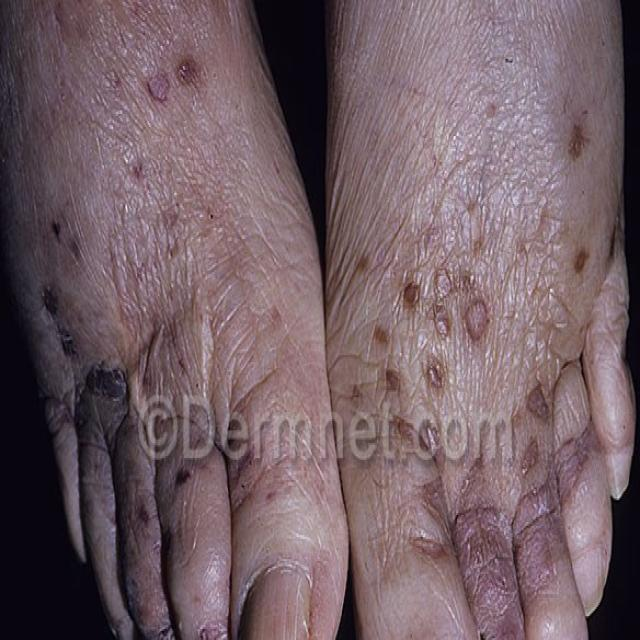Vascular Tumors: (451, 471, 577, 640), (367, 244, 497, 402), (114, 143, 201, 308), (31, 195, 94, 352), (127, 23, 226, 122), (45, 361, 135, 460), (528, 373, 593, 462), (552, 104, 598, 193), (185, 597, 243, 640)
